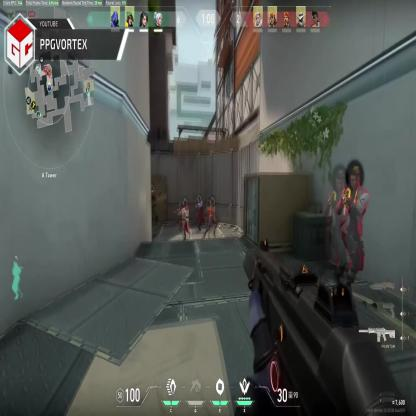enemy: (338, 164, 370, 299), (148, 182, 160, 226), (204, 197, 216, 240), (178, 199, 190, 240), (196, 196, 203, 232)
enemy_head: (348, 167, 361, 192), (210, 196, 215, 208), (183, 199, 188, 207), (150, 183, 154, 192), (197, 196, 201, 204)
